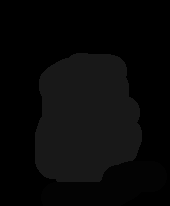fp: (34, 18, 143, 179)
